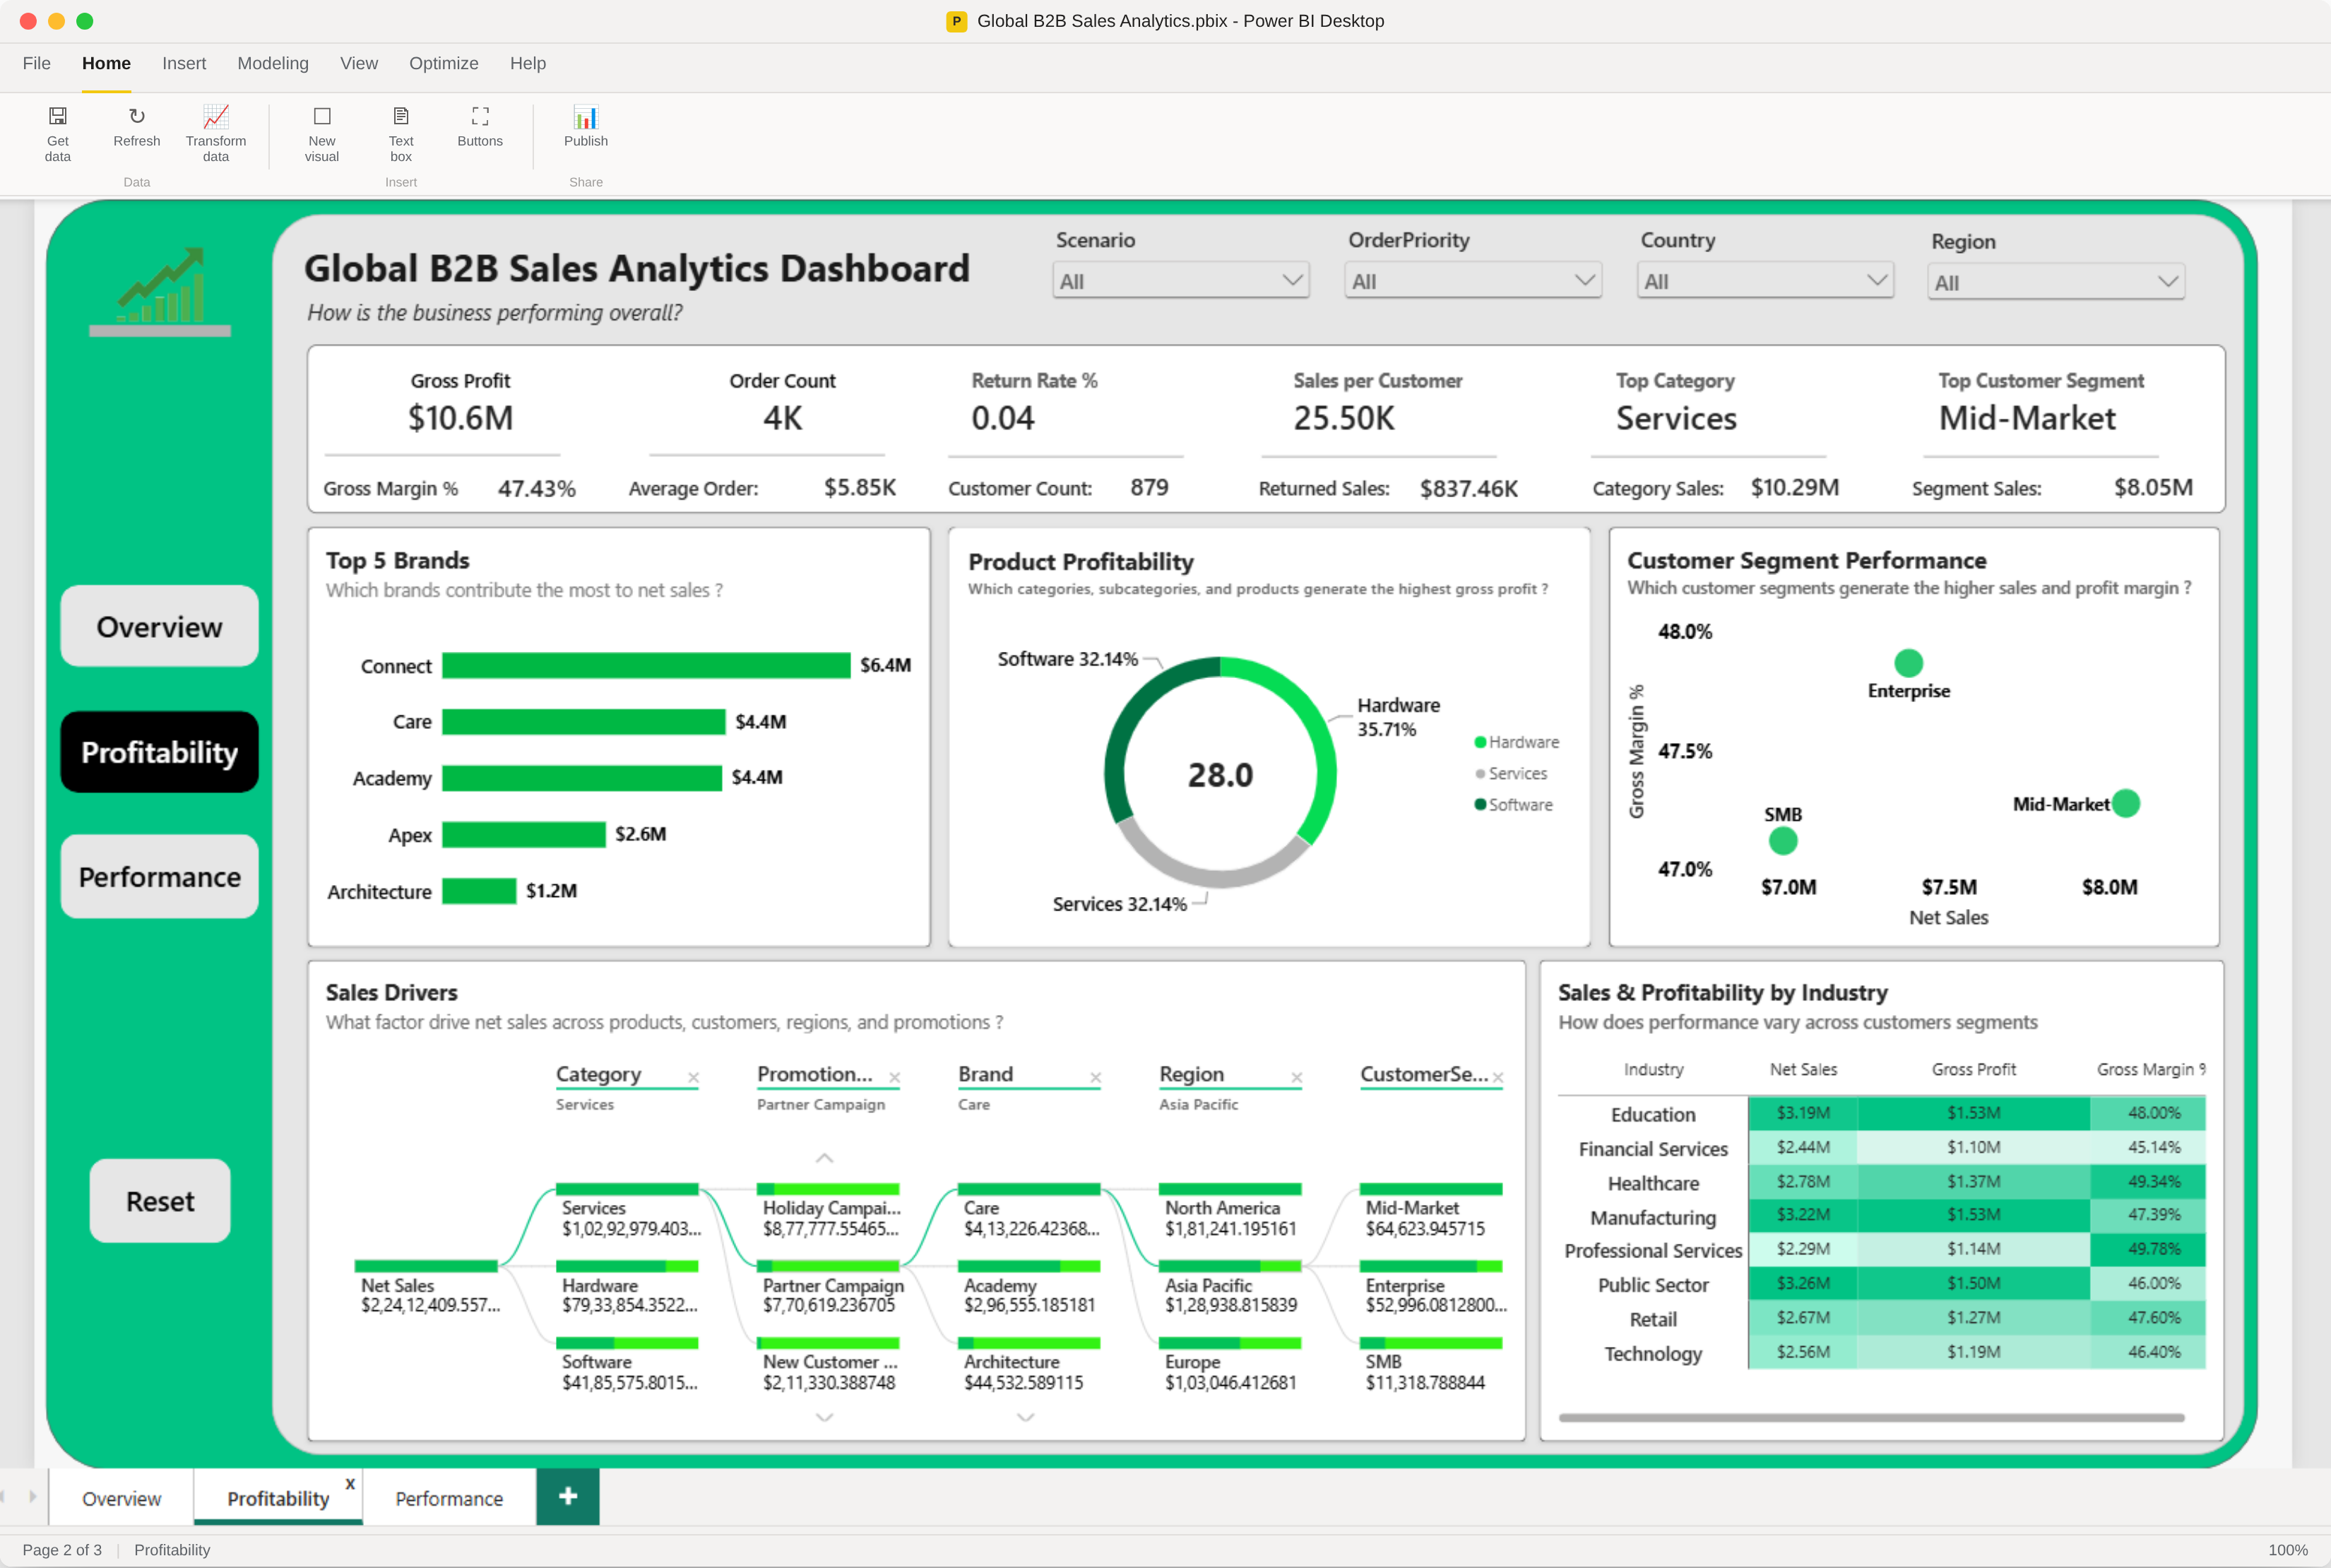

The dashboard page shown, as its layout file describes it:
{"tool":"powerbi","page":{"name":"Profitability","canvas":[1920,1080],"ordinal":1},"visuals":[{"type":"shape","box":[10.3,0,1881.1,1080.6],"z":0},{"type":"shape","box":[201.9,12.3,1677.3,1055.7],"z":1000},{"type":"textbox","box":[229.6,35.4,670.3,61.6],"z":2000},{"type":"textbox","box":[232.1,81.8,669.6,41.7],"z":3000},{"type":"group","id":"g1","title":"Group 1","box":[232.4,123.6,1631.1,143.3],"z":4000},{"type":"cardVisual","fields":{"Data":["Overview measures.Gross Profit","Overview measures.Order Count","Overview measures.Return Rate %","Profitability.Sales per Customer","Profitability.Top Category","Profitability.Top Customer Segment"]},"box":[232.4,123.6,1631.1,143.3],"z":4000,"group":"g1"},{"type":"slicer","fields":{"Values":["FactSales.DataScenario"]},"box":[860.7,22,228.7,74.8],"z":5000},{"type":"shape","box":[248.2,196.3,200,42.5],"z":5000,"group":"g1"},{"type":"slicer","fields":{"Values":["FactSales.OrderPriority"]},"box":[1108.9,22,228.7,74.8],"z":6000},{"type":"shape","box":[523.5,196.3,200,42.5],"z":6000,"group":"g1"},{"type":"slicer","fields":{"Values":["DimCustomer.Country"]},"box":[1357.2,22,228.7,74.8],"z":7000},{"type":"shape","box":[777,197.1,200,42.5],"z":7000,"group":"g1"},{"type":"slicer","fields":{"Values":["DimCustomer.Region"]},"box":[1605.5,23.5,228.7,74.8],"z":8000},{"type":"shape","box":[1043.6,197.1,200,42.5],"z":8000,"group":"g1"},{"type":"shape","box":[1323.7,197.1,200,42.5],"z":9000,"group":"g1"},{"type":"shape","box":[232.4,278.5,530.3,357.5],"z":9000},{"type":"shape","box":[1606.7,197.1,200,42.5],"z":10000,"group":"g1"},{"type":"shape","box":[231.5,646,1036.4,410],"z":10000},{"type":"shape","box":[1280,646,582.5,410],"z":11000},{"type":"actionButton","box":[22.6,327.8,169.1,69.4],"z":12000},{"type":"group","id":"g2","title":"Group 2","box":[36.2,24.2,141.9,110.2],"z":13000},{"type":"image","box":[36.2,24.2,141.9,87.5],"z":14000,"group":"g2"},{"type":"actionButton","box":[22.6,435,169.1,69.4],"z":14000},{"type":"shape","box":[46.8,89.1,120.8,45.3],"z":14005,"group":"g2"},{"type":"actionButton","box":[22.6,539.1,169.1,72.5],"z":15000},{"type":"actionButton","box":[46.8,815.1,120.8,72.5],"z":16000},{"type":"shape","box":[777.5,278.5,546.6,357.5],"z":17000},{"type":"shape","box":[1339.1,278.5,519.8,357.5],"z":18000},{"type":"barChart","title":"Top 5 Brands","fields":{"Category":["DimProduct.Brand"],"Y":["Overview measures.Net Sales"]},"box":[232.4,278.5,530.3,357.5],"z":19000},{"type":"donutChart","title":"Product Profitability","fields":{"Category":["DimProduct.Category"],"Y":["CountNonNull(DimProduct.Subcategory)"]},"box":[777.5,278.5,546.6,357.5],"z":20000},{"type":"scatterChart","title":"Customer Segment Performance","fields":{"Category":["DimCustomer.CustomerSegment"],"X":["Overview measures.Net Sales"],"Y":["Overview measures.Gross Margin %"]},"box":[1339,278.4,520.5,357.1],"z":21000},{"type":"decompositionTreeVisual","title":"Sales Drivers","fields":{"Analyze":["Overview measures.Net Sales"],"ExplainBy":["DimProduct.Category","DimPromotion.PromotionName","DimProduct.Brand","DimGeography.Region","DimCustomer.CustomerSegment"]},"box":[231.5,646,1036.4,408.5],"z":22000},{"type":"pivotTable","title":"Sales & Profitability by Industry","fields":{"Rows":["DimCustomer.Industry"],"Values":["Overview measures.Net Sales","Overview measures.Gross Profit","Overview measures.Gross Margin %"]},"box":[1280,646,582.5,410],"z":23000},{"type":"textbox","box":[245.2,231.8,122.6,34.4],"z":24000},{"type":"textbox","box":[505.4,231.8,122.6,34.4],"z":25000},{"type":"cardVisual","fields":{"Data":["Overview measures.Gross Margin %"]},"box":[367.8,222.8,119.6,44.9],"z":26000},{"type":"cardVisual","fields":{"Data":["Profitability.Customer Count"]},"box":[915.1,221.3,119.6,44.9],"z":27000},{"type":"textbox","box":[777.6,231.8,122.6,34.4],"z":28000},{"type":"cardVisual","fields":{"Data":["FactSales.Returned Sales"]},"box":[1160.3,222.8,119.6,44.9],"z":29000},{"type":"textbox","box":[1040.7,231.8,122.6,34.4],"z":30000},{"type":"cardVisual","fields":{"Data":["Profitability.Category Sales"]},"box":[1437,221.3,119.6,44.9],"z":31000},{"type":"textbox","box":[1324.8,231.8,122.6,34.4],"z":32000},{"type":"cardVisual","fields":{"Data":["Profitability.Segment Sales"]},"box":[1742,221.3,119.6,44.9],"z":33000},{"type":"textbox","box":[1597,231.8,122.6,34.4],"z":34000},{"type":"cardVisual","fields":{"Data":["Overview measures.Average Order"]},"box":[643,221.3,119.6,44.9],"z":35000}]}

Visuals, with their boxes on the page's 1920x1080 design canvas (x1, y1, x2, y2). These are canvas units, not pixel positions in the 2331x1568 screenshot, which may show the page scaled, cropped or inside an application window:
shape: 10,0,1891,1081
shape: 202,12,1879,1068
textbox: 230,35,900,97
textbox: 232,82,902,124
"Group 1" group: 232,124,1864,267
cardVisual - Overview measures.Gross Profit x Overview measures.Order Count: 232,124,1864,267
slicer - FactSales.DataScenario: 861,22,1089,97
shape: 248,196,448,239
slicer - FactSales.OrderPriority: 1109,22,1338,97
shape: 524,196,724,239
slicer - DimCustomer.Country: 1357,22,1586,97
shape: 777,197,977,240
slicer - DimCustomer.Region: 1606,24,1834,98
shape: 1044,197,1244,240
shape: 1324,197,1524,240
shape: 232,278,763,636
shape: 1607,197,1807,240
shape: 232,646,1268,1056
shape: 1280,646,1862,1056
actionButton: 23,328,192,397
"Group 2" group: 36,24,178,134
image: 36,24,178,112
actionButton: 23,435,192,504
shape: 47,89,168,134
actionButton: 23,539,192,612
actionButton: 47,815,168,888
shape: 778,278,1324,636
shape: 1339,278,1859,636
"Top 5 Brands" barChart: 232,278,763,636
"Product Profitability" donutChart: 778,278,1324,636
"Customer Segment Performance" scatterChart: 1339,278,1860,636
"Sales Drivers" decompositionTreeVisual: 232,646,1268,1054
"Sales & Profitability by Industry" pivotTable: 1280,646,1862,1056
textbox: 245,232,368,266
textbox: 505,232,628,266
cardVisual - Overview measures.Gross Margin %: 368,223,487,268
cardVisual - Profitability.Customer Count: 915,221,1035,266
textbox: 778,232,900,266
cardVisual - FactSales.Returned Sales: 1160,223,1280,268
textbox: 1041,232,1163,266
cardVisual - Profitability.Category Sales: 1437,221,1557,266
textbox: 1325,232,1447,266
cardVisual - Profitability.Segment Sales: 1742,221,1862,266
textbox: 1597,232,1720,266
cardVisual - Overview measures.Average Order: 643,221,763,266
